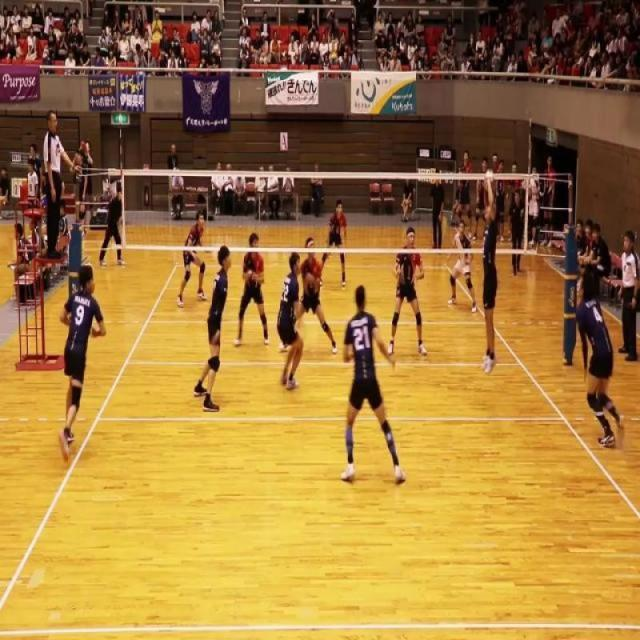volleyball: (483, 169, 495, 191)
